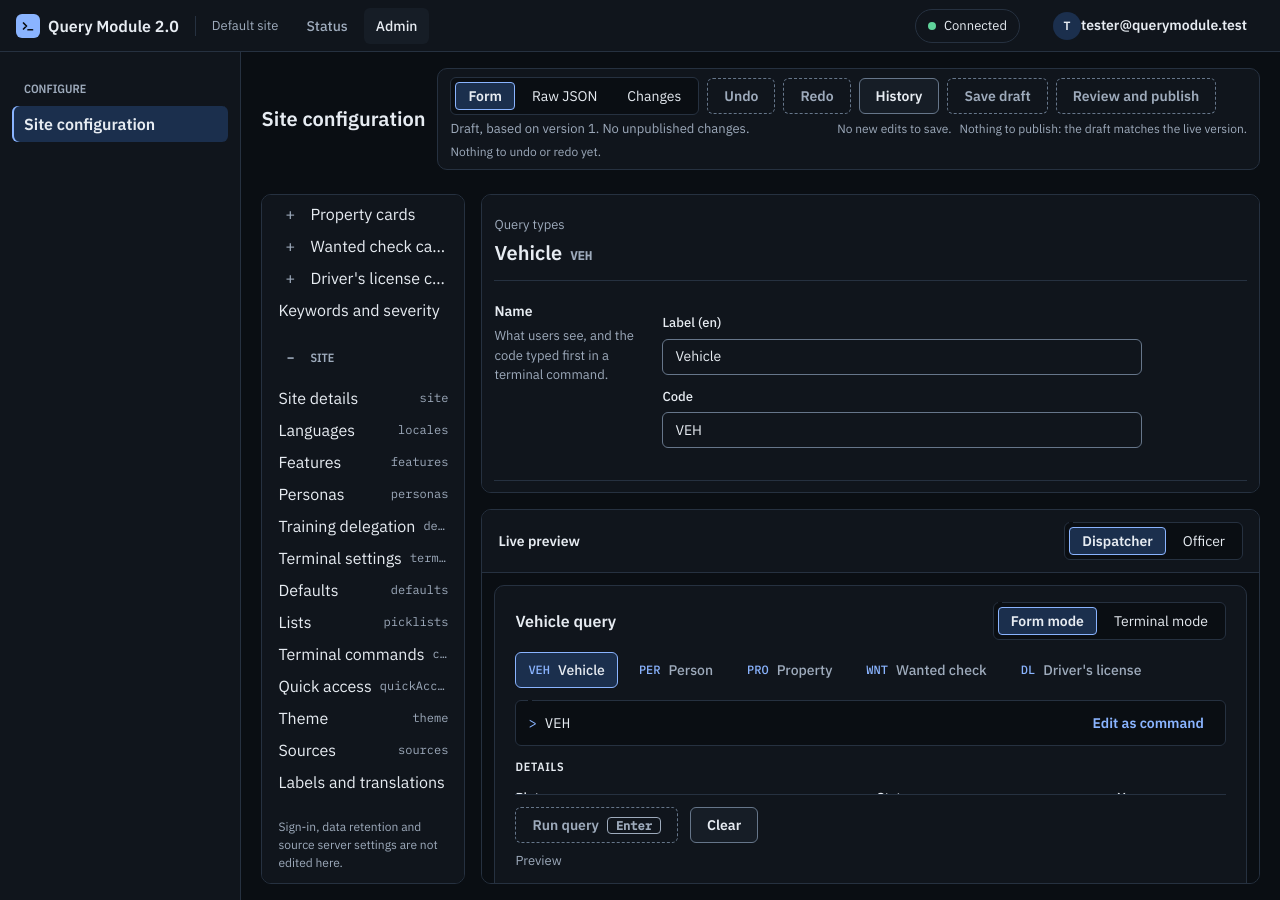
A3 editor heading › a site item keeps its plain name under a Site crumb
The width and height of the screenshot is (1280, 900).
(page scrolled)
Check: the tab "Form" is shown, box [456,82,515,110]
Click the list item "Lists picklists".
click(295, 622)  # box [270,606,456,638]
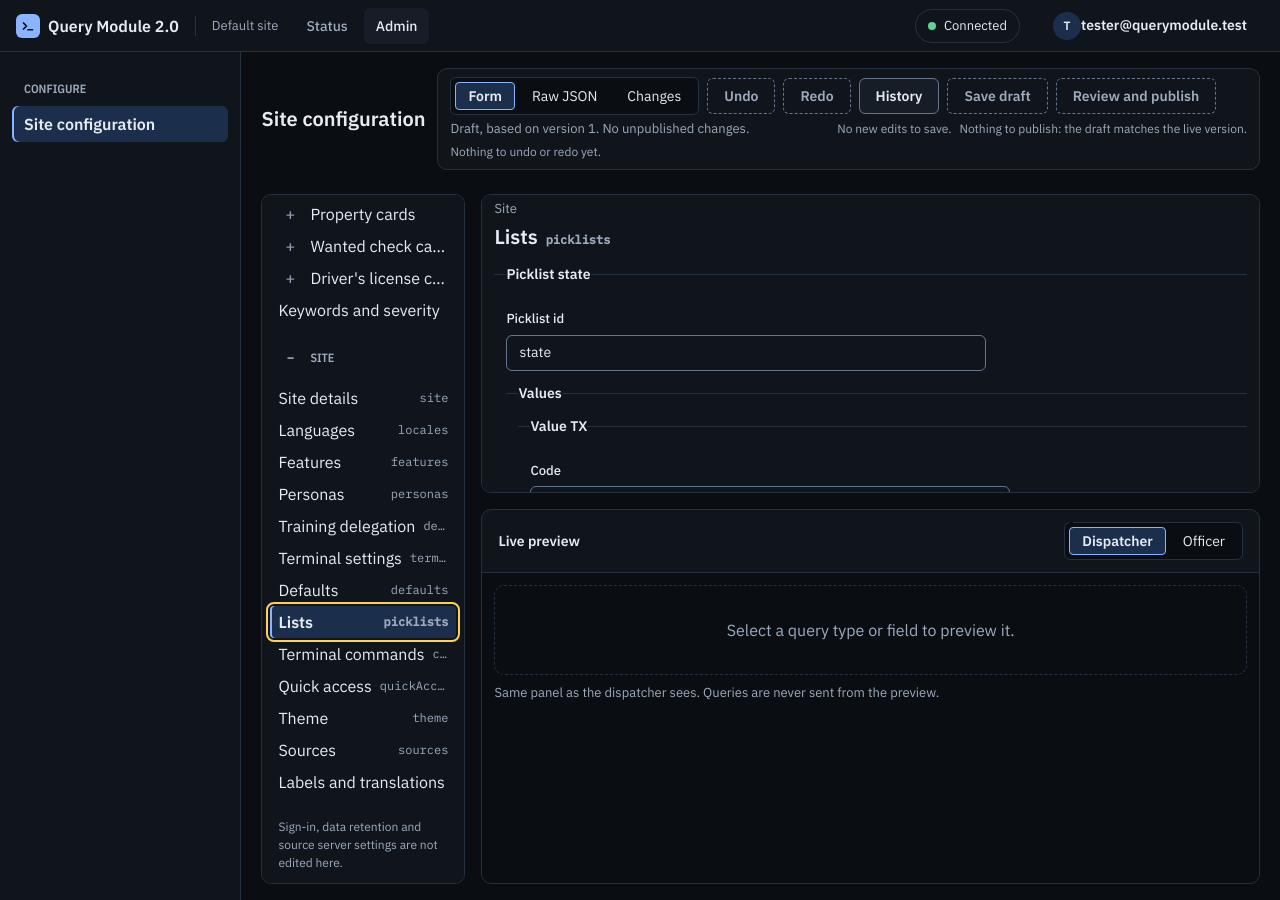
Check: the heading "Lists picklists" is shown, box [494,223,610,250]
Check: the text "Site" is shown, box [494,200,517,216]
